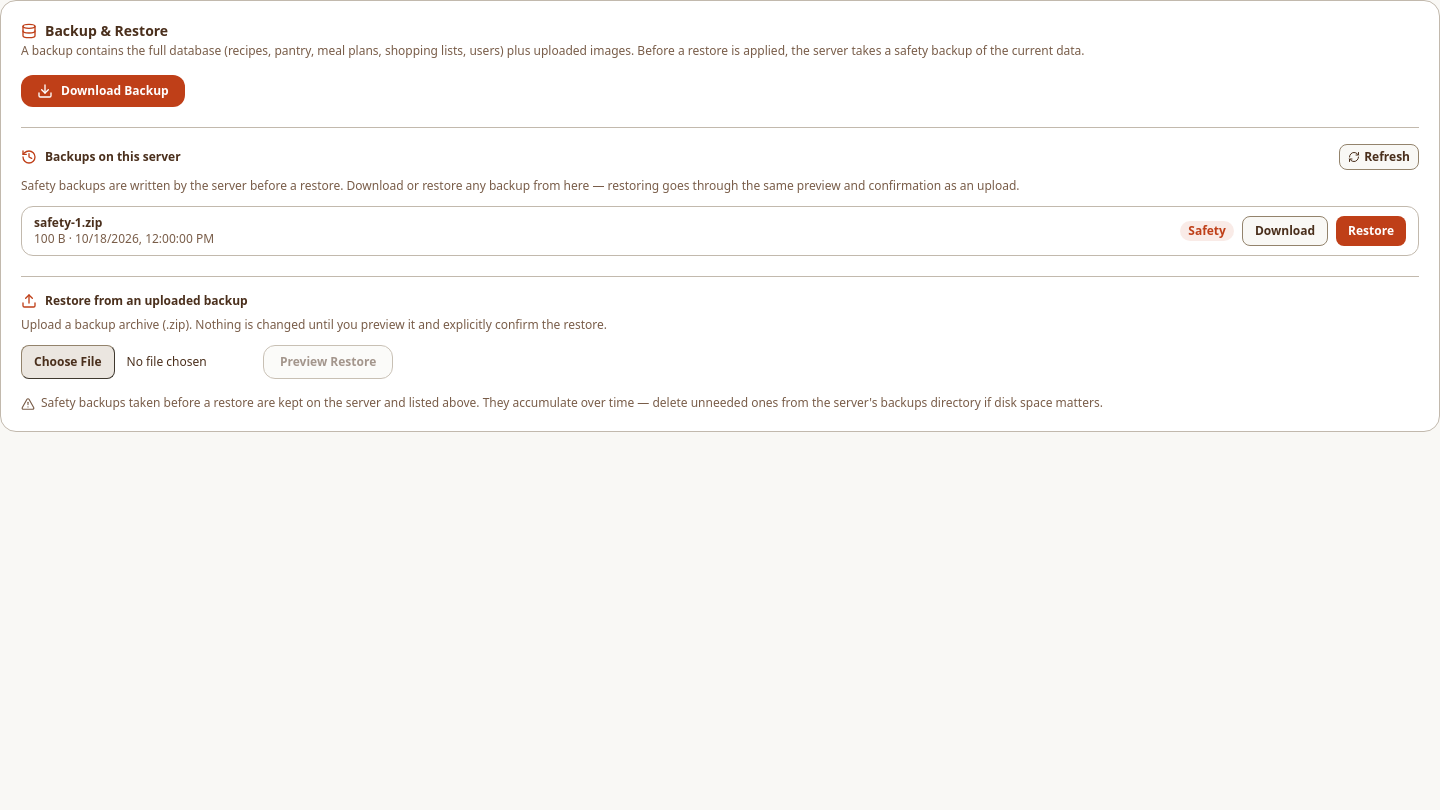
Test case: BackupRestoreSection (issue #71) › restore from the list goes through the same preview → confirm flow
The width and height of the screenshot is (1440, 810).
Expected: the text "safety-1.zip" is shown, [34,214,102,231]
Click the button "Restore": [1371, 231] box [1336,216,1406,246]
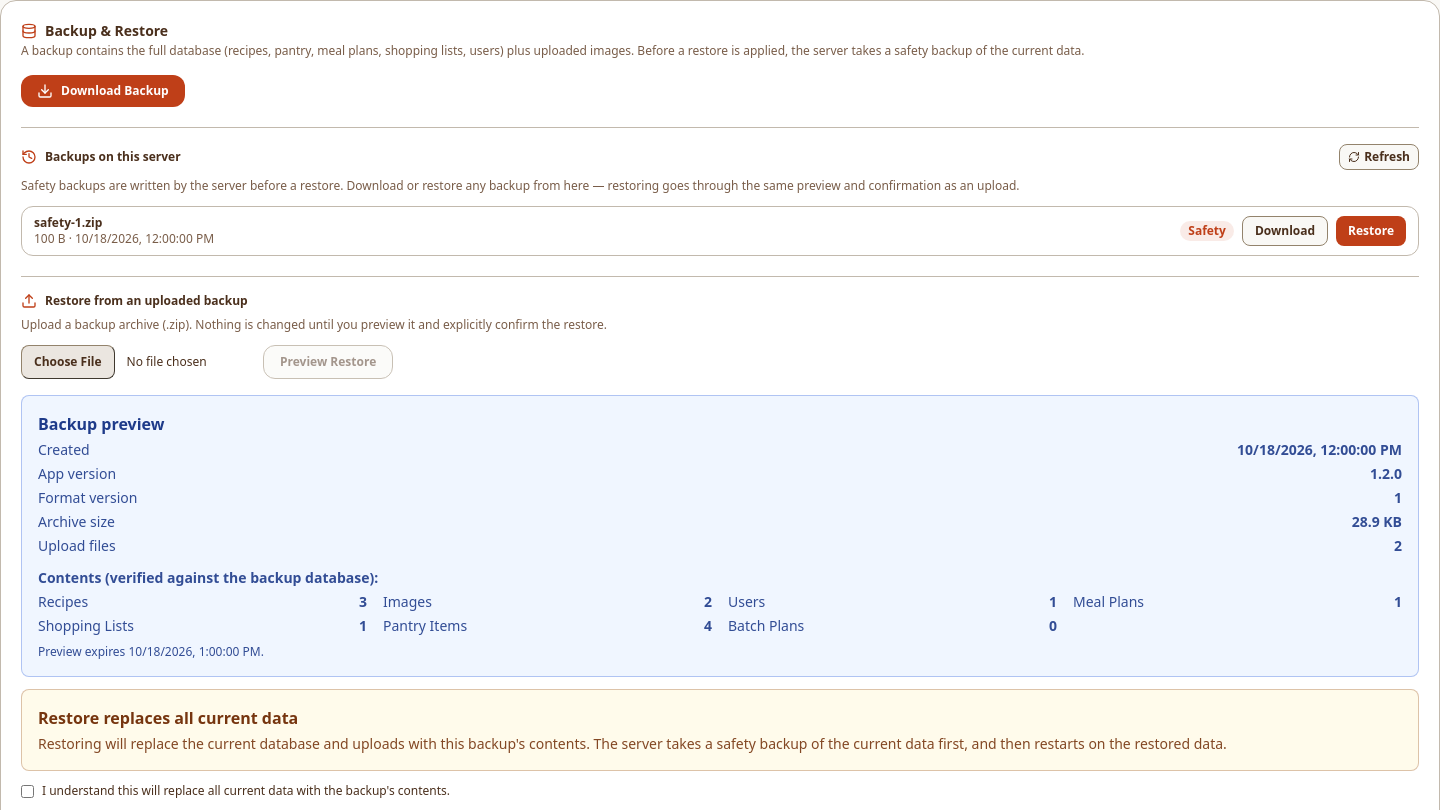
Now the heading "Backup preview" is shown, box [38,413,164,435]
Click the text "I understand this will replace all current data": [236, 790] box [21,782,450,799]
(page scrolled)
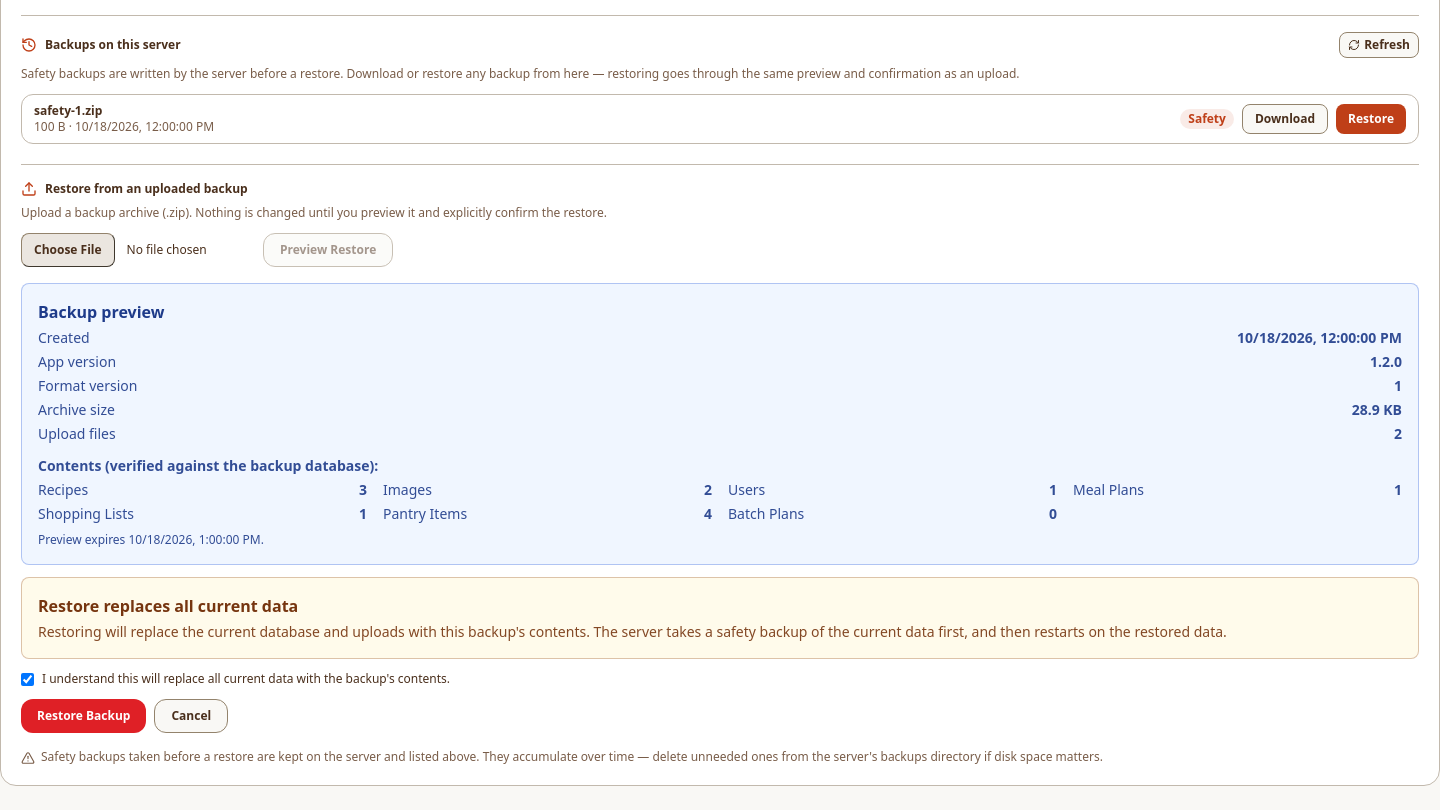
Click the button "Restore Backup": [84, 716] box [21,699,146,733]
(page scrolled)
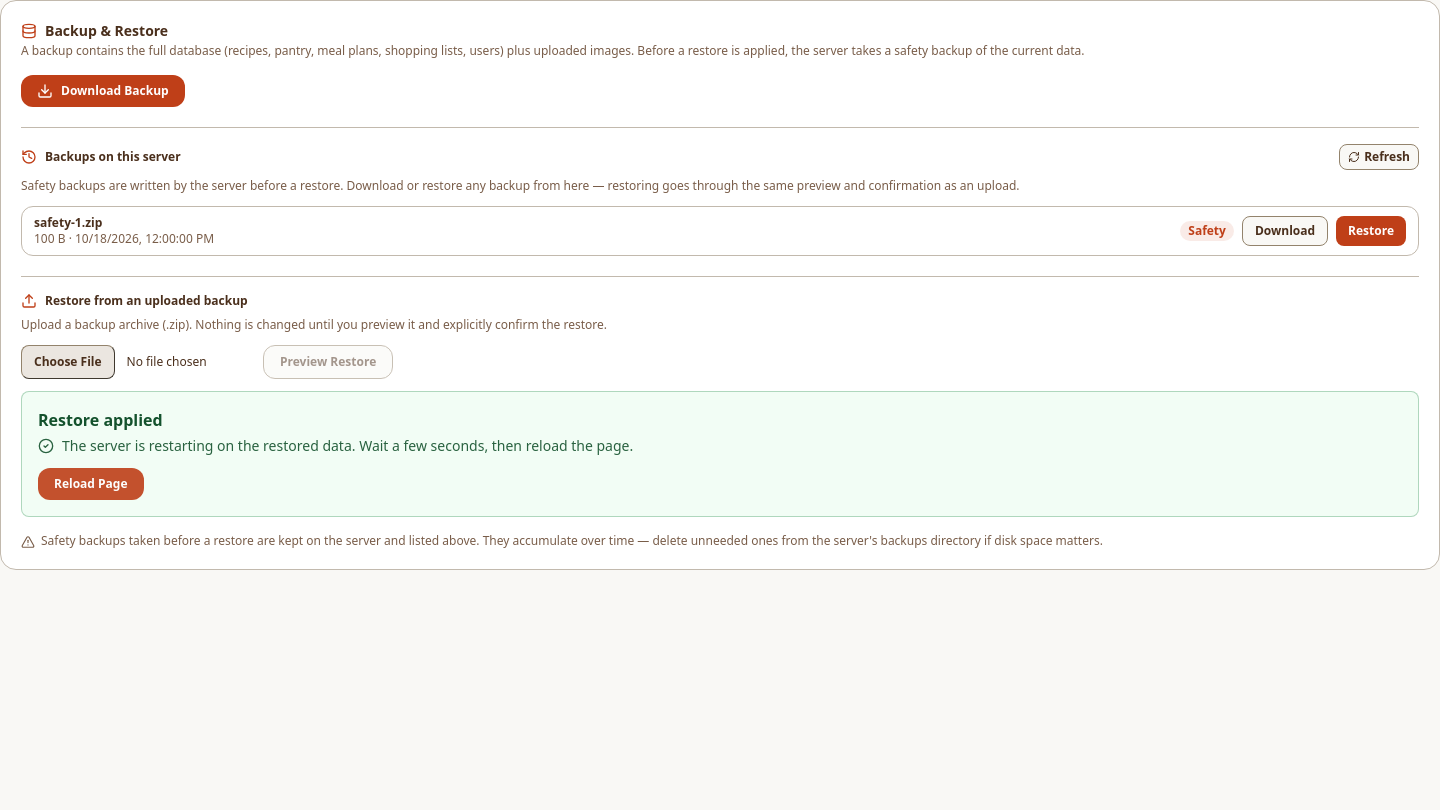
Now the heading "Restore applied" is shown, box [38,409,163,431]
